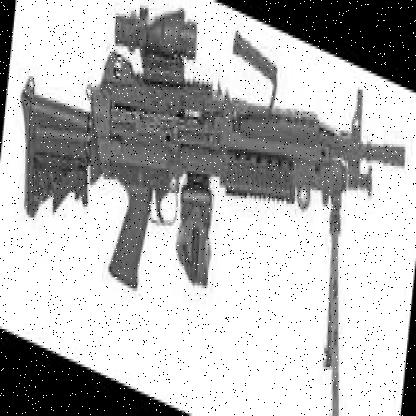rifle: (8, 0, 412, 413)
